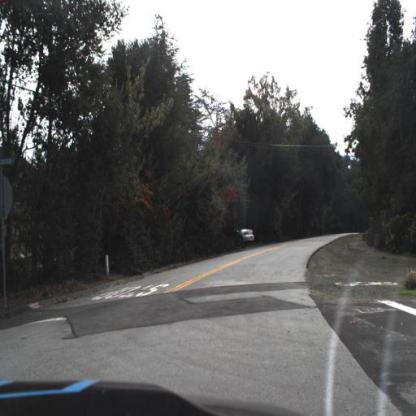car: (233, 218, 261, 249), (240, 228, 258, 246)
